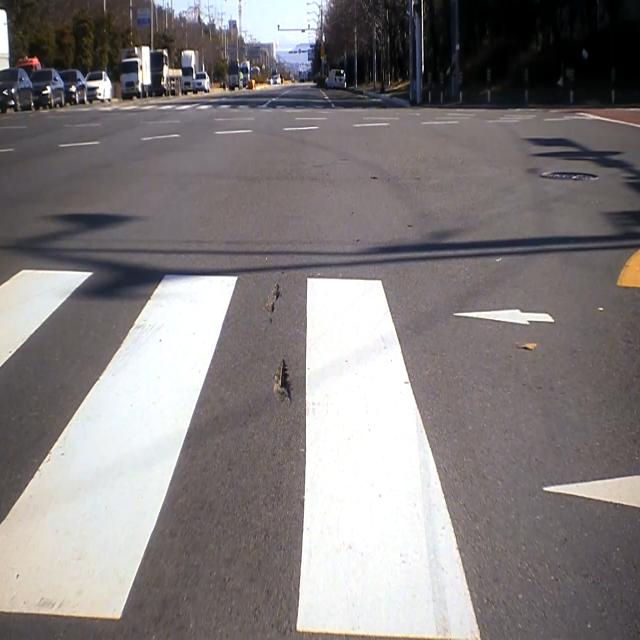Pothole: (271, 349, 292, 409), (264, 278, 282, 331)
